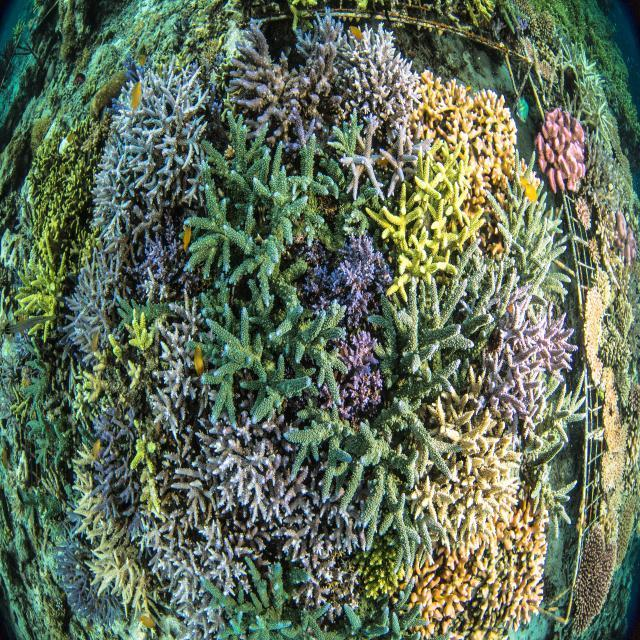Healthy Coral: (298, 298, 540, 550), (184, 86, 340, 407), (62, 341, 162, 608), (12, 101, 104, 339), (367, 136, 492, 306), (182, 411, 310, 552), (572, 272, 620, 634), (127, 39, 204, 196)
